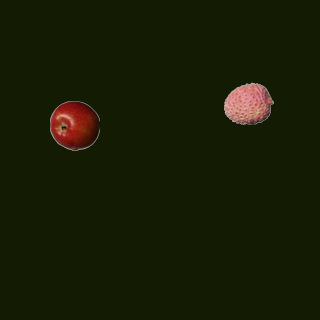Apple Braeburn: (49, 100, 99, 150)
Lychee: (223, 78, 273, 128)
